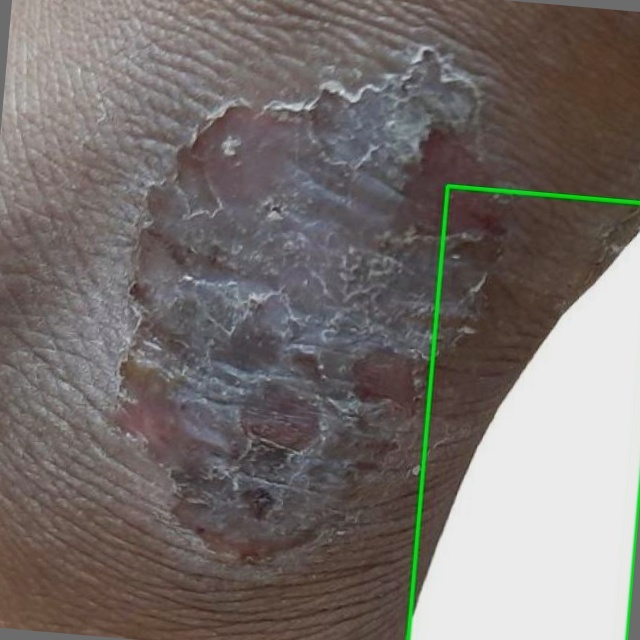Contact Dermatitis: (408, 185, 639, 639)
